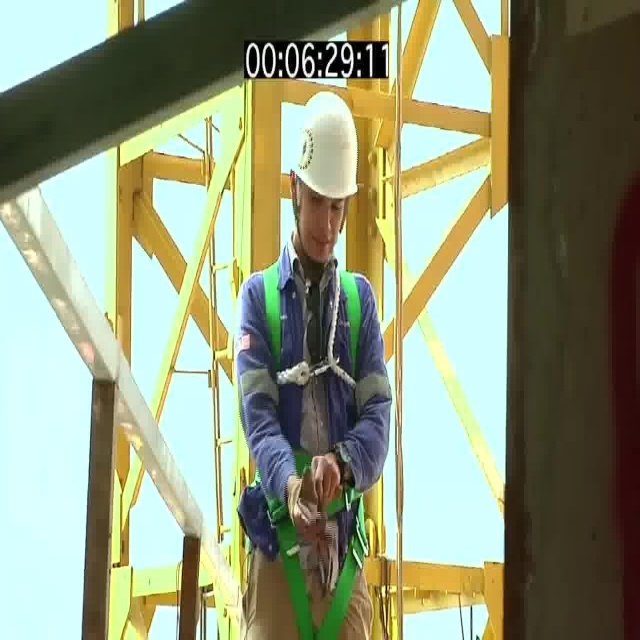Arnes_seguridad: (255, 267, 375, 629)
